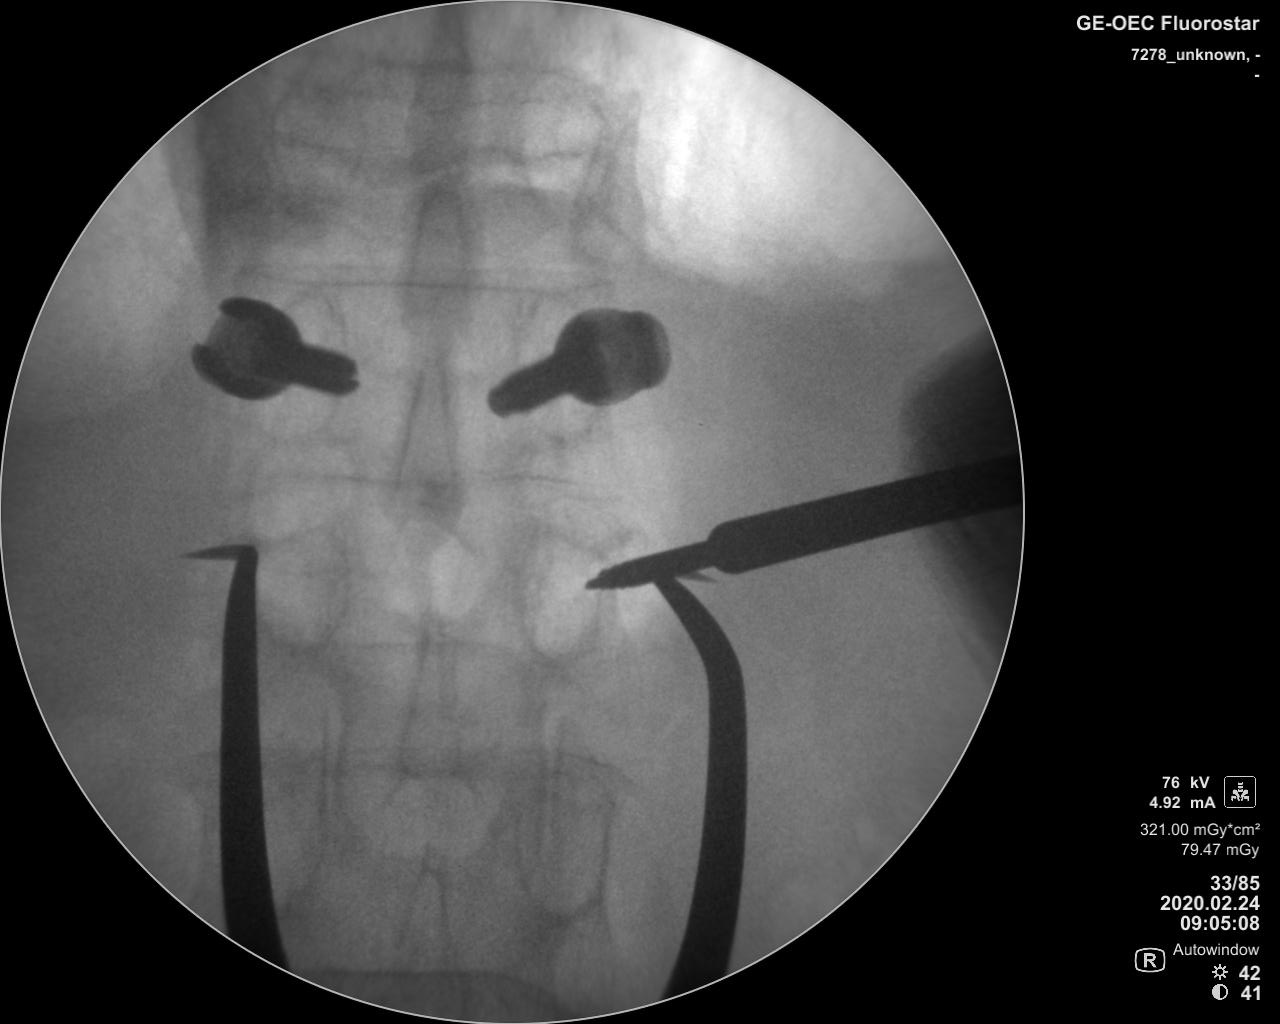eyes: (515, 771, 621, 918), (511, 292, 597, 445), (270, 79, 360, 213), (259, 287, 338, 441), (254, 526, 349, 651), (520, 535, 606, 664), (521, 78, 599, 220)
line: (247, 264, 607, 299), (242, 462, 591, 492), (309, 957, 566, 991), (281, 750, 564, 779), (299, 634, 548, 655)
nose: (389, 343, 466, 544), (405, 10, 484, 176), (391, 847, 465, 1008), (399, 599, 463, 782), (403, 183, 476, 322)
